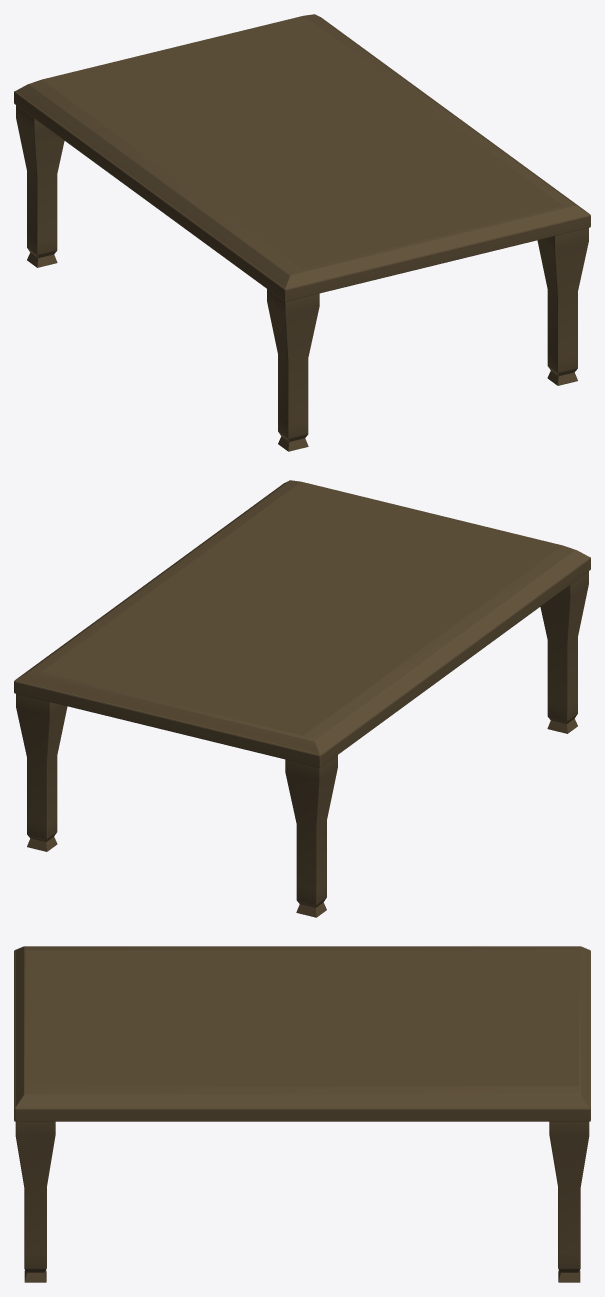
Rendered from table.fbx.
3 views of the same model, one above another, from view 1: azimuth 30°, elevation 25°; view 2: azimuth 150°, elevation 25°; view 3: azimuth 270°, elevation 25° (orthographic). The views are drawn at different scales.
Visible parts, largest first — view 1: pCube1; view 2: pCube1; view 3: pCube1.
Boxes of the visible parts, x1,y1,x2,y2 form: pCube1: (14, 14, 590, 451); pCube1: (14, 480, 590, 917); pCube1: (14, 946, 590, 1282).
Bounding box in the file's own units: 26.03 × 14.46 × 39.88.
